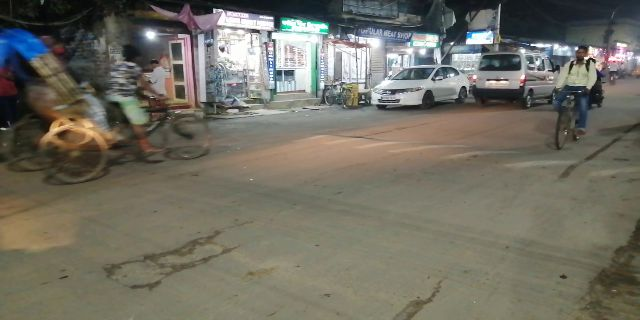Car: (370, 61, 470, 111)
Cycle: (553, 39, 603, 156)
Rickshaw: (3, 29, 211, 183)
Van: (474, 50, 558, 107)
